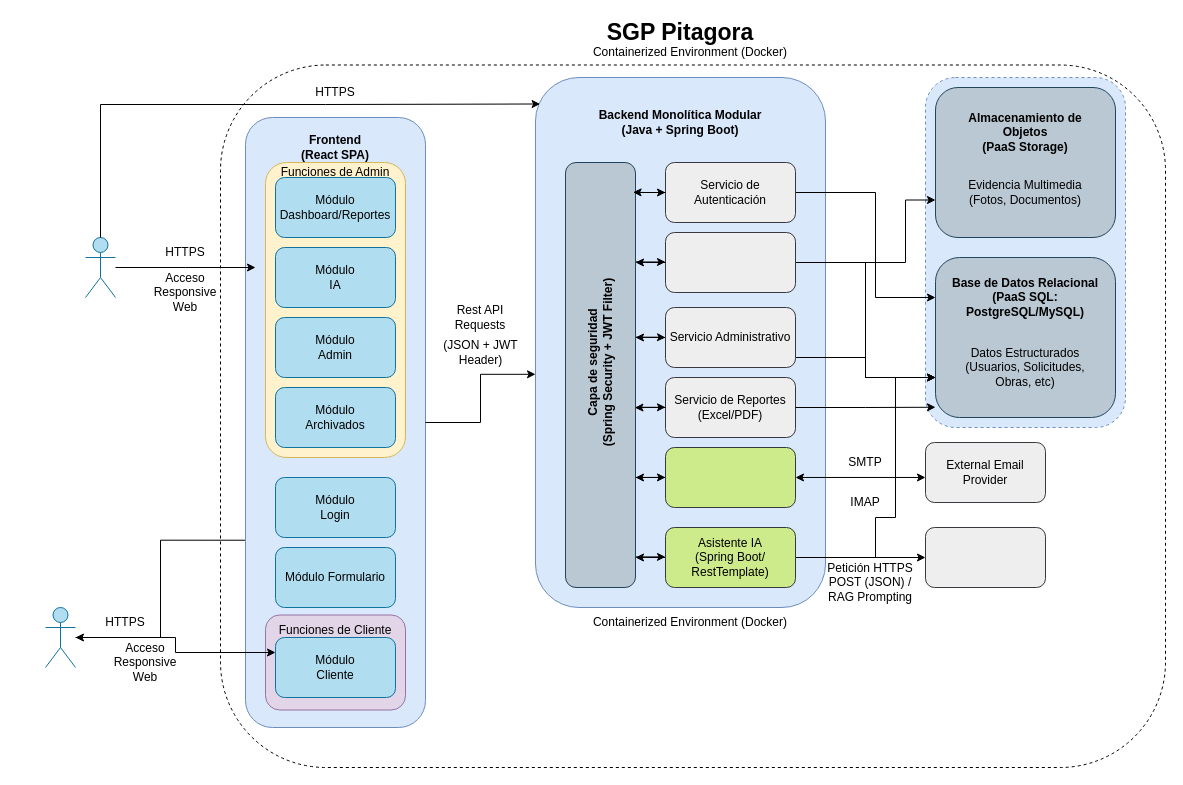
Image size: 1183x785. Some labels were removed from this diagram. The centre of each missing label's shape, as x and y in pixels:
"Administrador (Francisco Castillo)" belongs at point 100,267.
"API REST Gemini (Google AI Studio)" belongs at point 985,557.
"Cliente (Representante)" belongs at point 60,637.
"Servicio de Notificaciones" belongs at point 730,477.
"Servicio de solicitudes" belongs at point 730,262.
